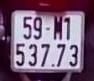1: (64, 15, 72, 41)
3: (28, 42, 38, 68), (70, 44, 78, 67)
5: (14, 41, 26, 67), (22, 15, 32, 41)
7: (55, 43, 66, 68), (41, 43, 51, 67)
9: (33, 16, 43, 40)
M: (52, 14, 64, 41)
